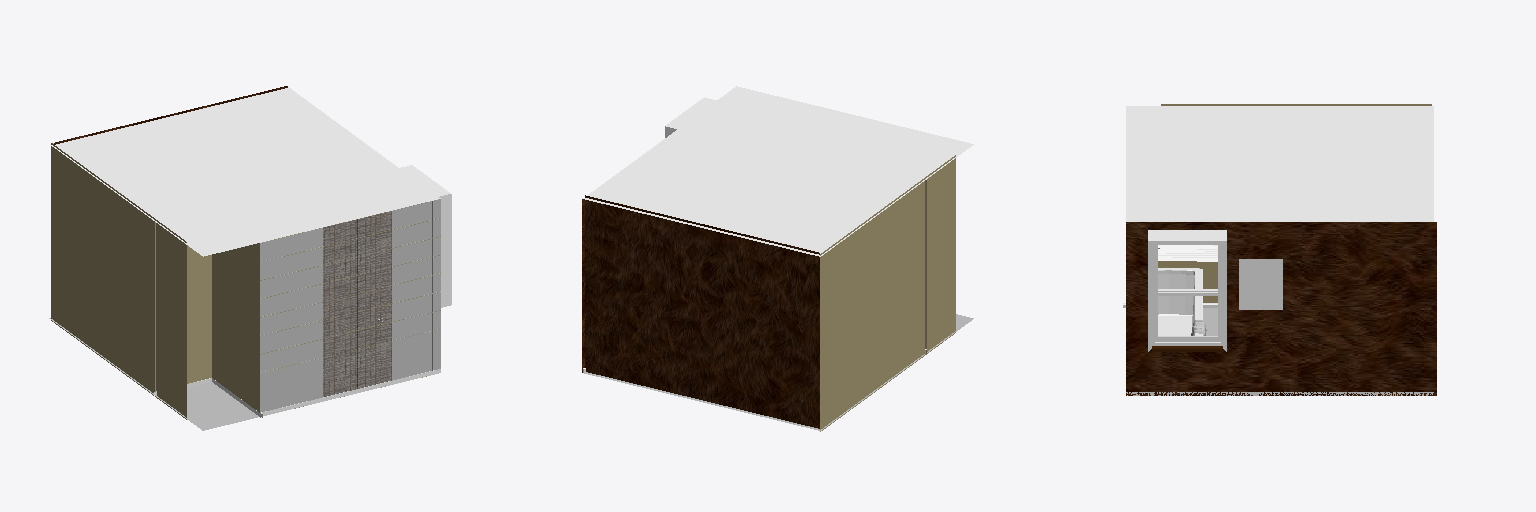
3 views of the same model, side by side, from view 1: azimuth 30°, elevation 25°; view 2: azimuth 150°, elevation 25°; view 3: azimuth 270°, elevation 25° (orthographic).
Parts seen in each view (by area): view 1: walls_Cube, ceiling_Cube.001, wall4_Plane.008, floor_Cube.003, window_Cube.002; view 2: wall3_Plane.003, ceiling_Cube.001, wall4_Plane.008, walls_Cube, floor_Cube.003, window_Cube.002; view 3: walls_Cube, ceiling_Cube.001, window_Cube.002, bathtub_Plane, mirror_Plane.002, floor_Cube.003, wall4_Plane.008.
Boxes of the visible parts, x1,y1,x2,y2 form: walls_Cube: [155, 199, 440, 412]; ceiling_Cube.001: [50, 87, 440, 256]; wall4_Plane.008: [51, 143, 186, 419]; floor_Cube.003: [49, 318, 440, 430]; window_Cube.002: [400, 165, 451, 307]; wall3_Plane.003: [585, 195, 819, 428]; ceiling_Cube.001: [583, 86, 973, 256]; wall4_Plane.008: [820, 155, 955, 431]; walls_Cube: [582, 180, 926, 372]; floor_Cube.003: [583, 314, 973, 430]; window_Cube.002: [665, 97, 716, 137]; walls_Cube: [1126, 222, 1436, 395]; ceiling_Cube.001: [1126, 106, 1433, 221]; window_Cube.002: [1148, 230, 1226, 351]; bathtub_Plane: [1158, 268, 1202, 335]; mirror_Plane.002: [1239, 259, 1282, 309]; floor_Cube.003: [1123, 303, 1433, 395]; wall4_Plane.008: [1161, 104, 1431, 105].
Size of the model in its own units: 3.05 by 2 by 3.18.
Materials: 24 (9 with a texture image).